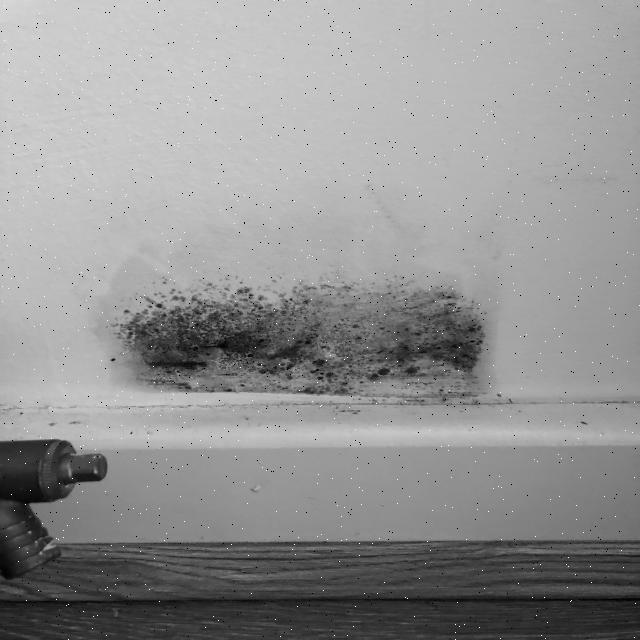stain marks: (57, 182, 533, 426)
